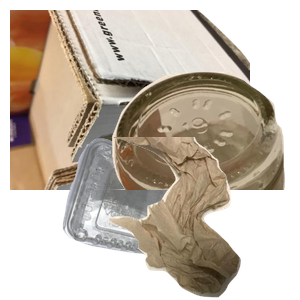cardboard: (10, 10, 250, 190)
glass: (89, 69, 300, 249)
plastic: (60, 136, 237, 300)
trash: (103, 137, 300, 300)
